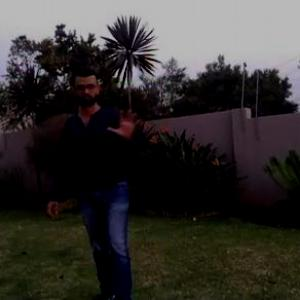follow_hand: (103, 105, 143, 142)
